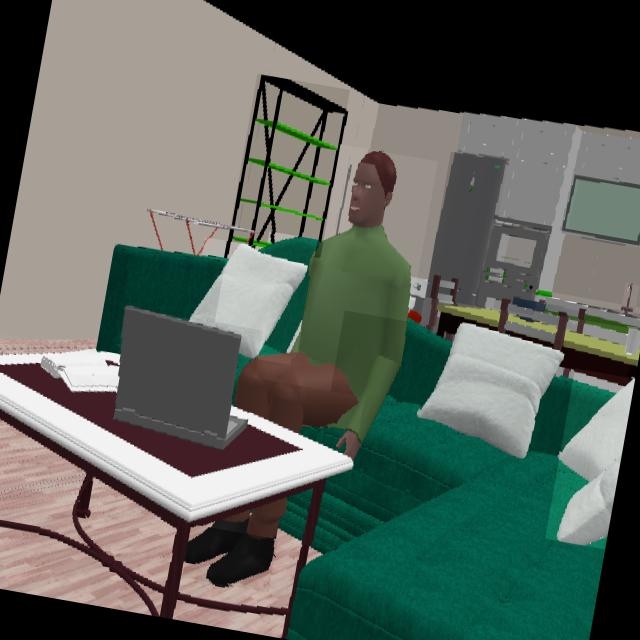book: (41, 350, 121, 393)
cabinet: (458, 116, 640, 294)
countertop: (545, 300, 640, 329)
fridge: (428, 153, 506, 304)
laptop: (115, 307, 246, 449)
microwave: (478, 222, 547, 306)
person: (235, 151, 412, 459), (185, 500, 283, 584)
pillow: (419, 323, 563, 458), (190, 244, 307, 357), (557, 379, 634, 545)
shelf: (231, 77, 346, 245)
sink: (621, 285, 634, 314)
sofa: (288, 322, 611, 640), (97, 246, 225, 352), (264, 276, 309, 354), (266, 240, 315, 264)
table: (0, 349, 353, 523), (75, 482, 90, 516)
